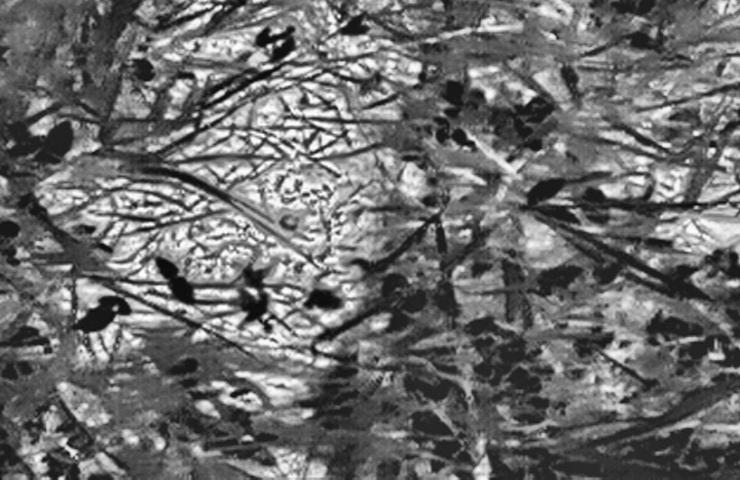landmines: (36, 23, 400, 391)
